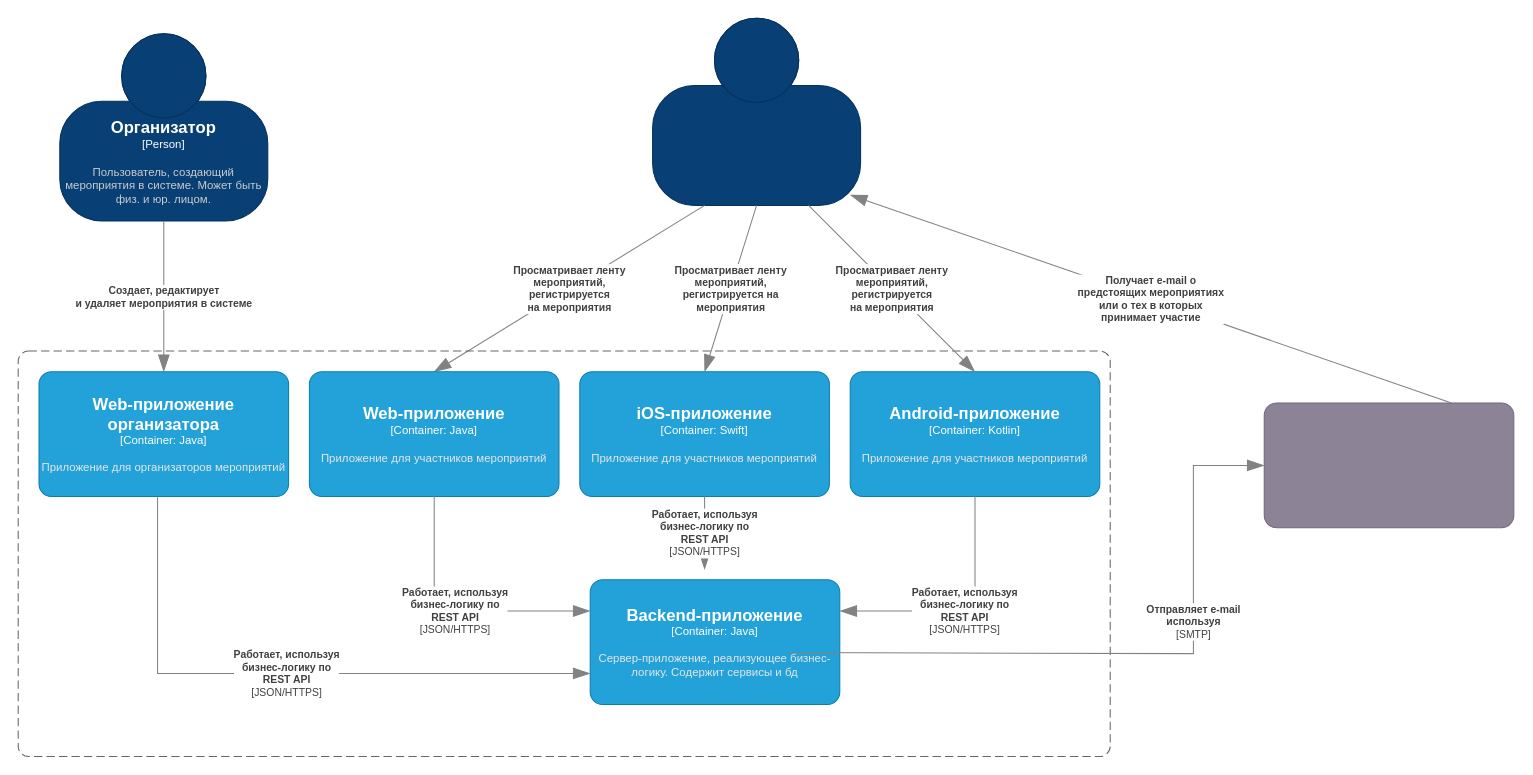
The diagram is 1533 pixels wide and 775 high, and some of its shapes have lost their labels. The shapes that lost their labels are listed below. From the top down, each one's box as (x1, y1, x2, y2) in pixels, then its label:
(652, 17, 861, 205): Участник [Person] Пользователь, который может регистрироваться на мероприятия
(1263, 402, 1514, 528): E-mail System [Software System]
(17, 350, 1110, 757): Система для мероприятий [Software System]
